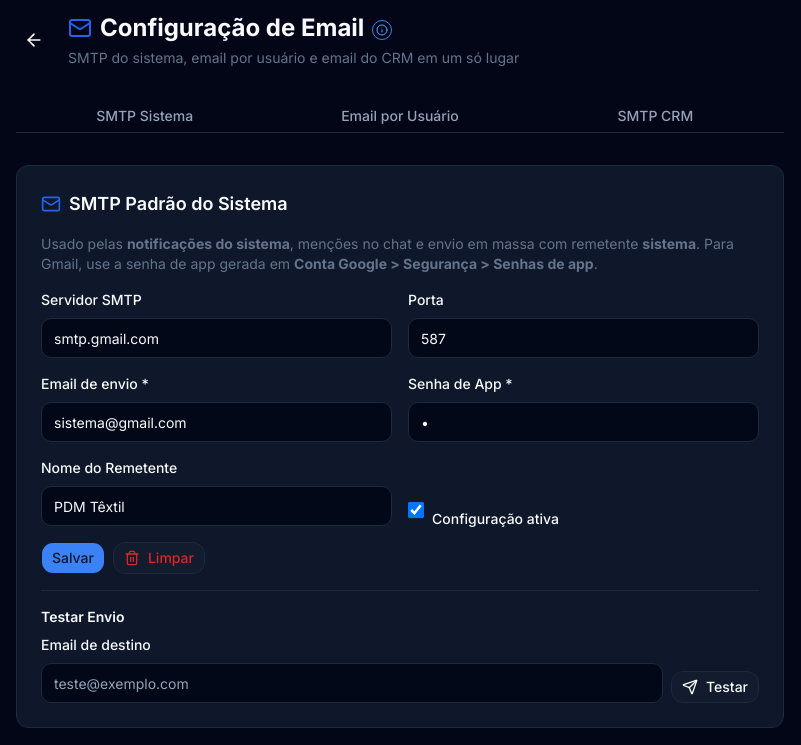
Test: EmailConfigPage › troca para a aba Email por Usuário e lista as configurações
The width and height of the screenshot is (801, 745).
Expected: the heading "SMTP Padrão do Sistema" is shown, [69,190,288,218]
Click the tab "Email por Usuário": [400, 116] box [274,103,526,129]
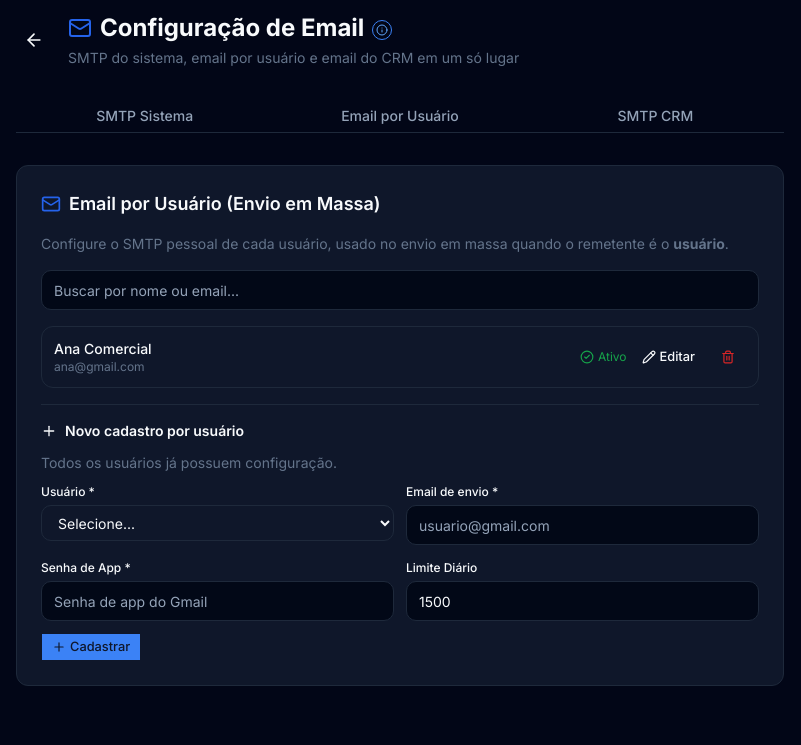
Expected: the text "Ana Comercial" is shown, [54,339,152,359]
Expected: the text "ana@gmail.com" is shown, [54,359,152,375]
